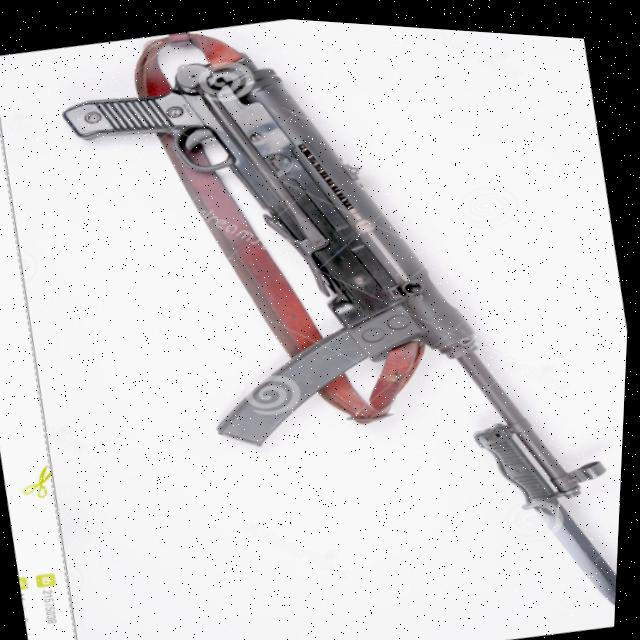firearm: (37, 3, 632, 579)
knife: (465, 391, 627, 633)
